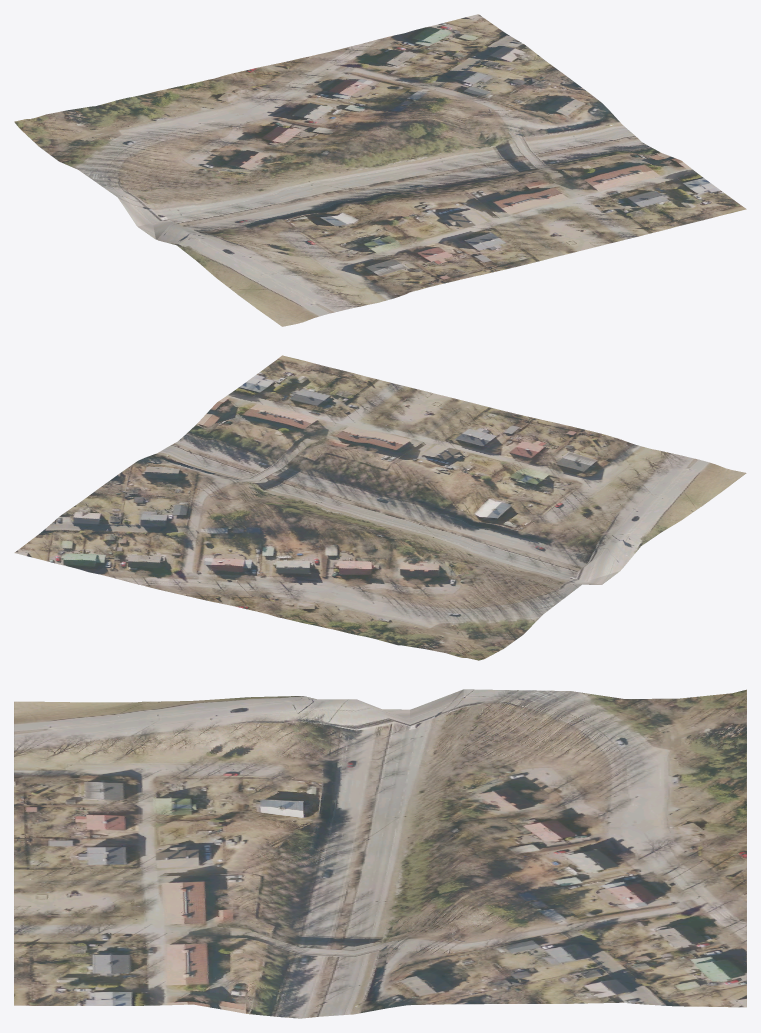
The model's file is CM_Terrain_24488615_6821841.fbx.
The picture shows the model from 3 angles, top to bottom: view 1: azimuth 30°, elevation 25°; view 2: azimuth 150°, elevation 25°; view 3: azimuth 270°, elevation 25°; orthographic projection. The views are drawn at different scales.
Visible parts, largest first — view 1: CM_Terrain_24488615_6821841_LOD0; view 2: CM_Terrain_24488615_6821841_LOD0; view 3: CM_Terrain_24488615_6821841_LOD0.
Boxes of the visible parts, x1,y1,x2,y2 form: CM_Terrain_24488615_6821841_LOD0: (14,14,746,326); CM_Terrain_24488615_6821841_LOD0: (14,355,746,660); CM_Terrain_24488615_6821841_LOD0: (14,689,746,1018).
Size of what is drawn, in the model's own units: 205 by 7.13 by 205.
